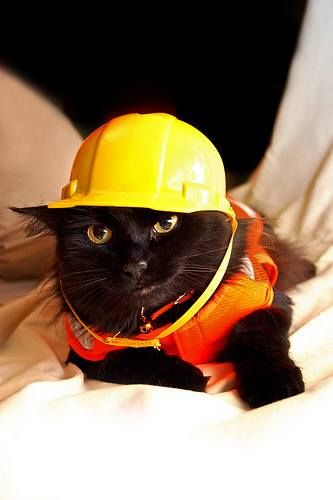Casco de seguridad: (48, 113, 233, 216)
